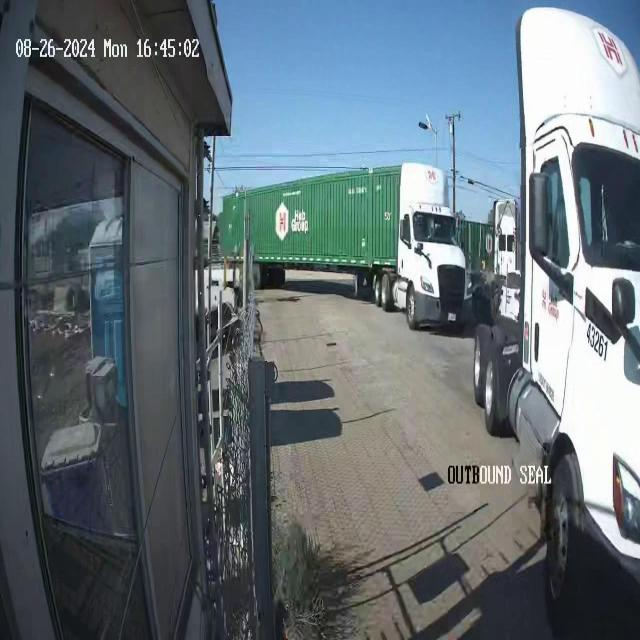BOBTAIL: (472, 2, 640, 588)
TRUCK_CONTAINER: (220, 161, 469, 329)
